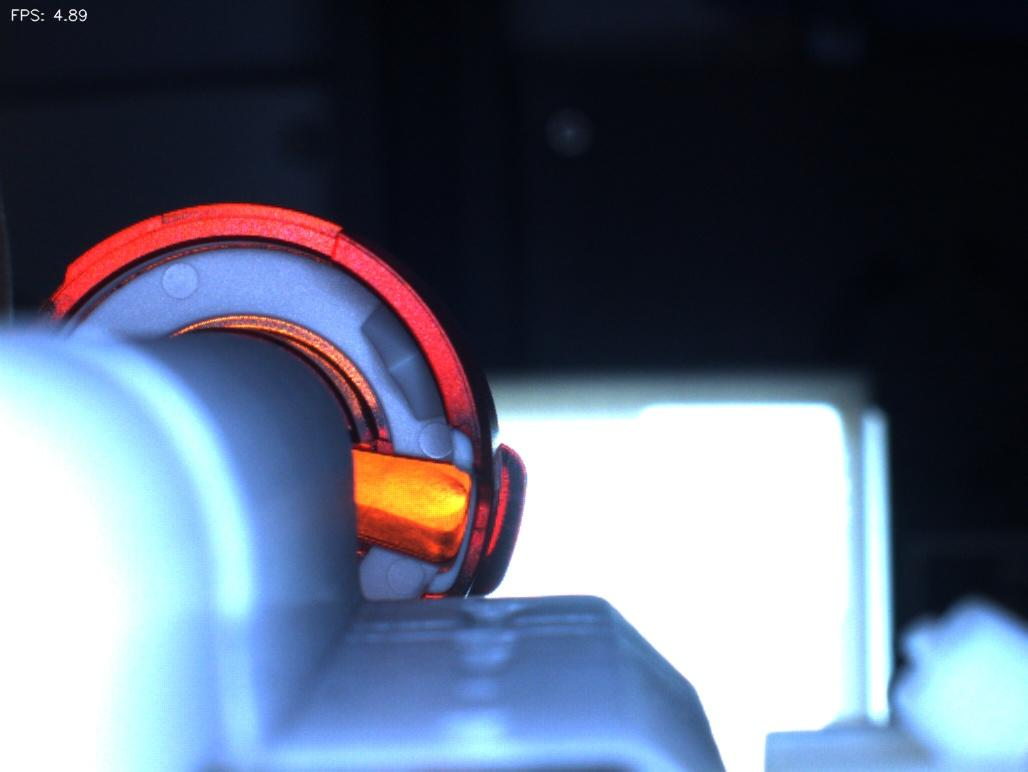Retassure: (366, 454, 471, 537)
